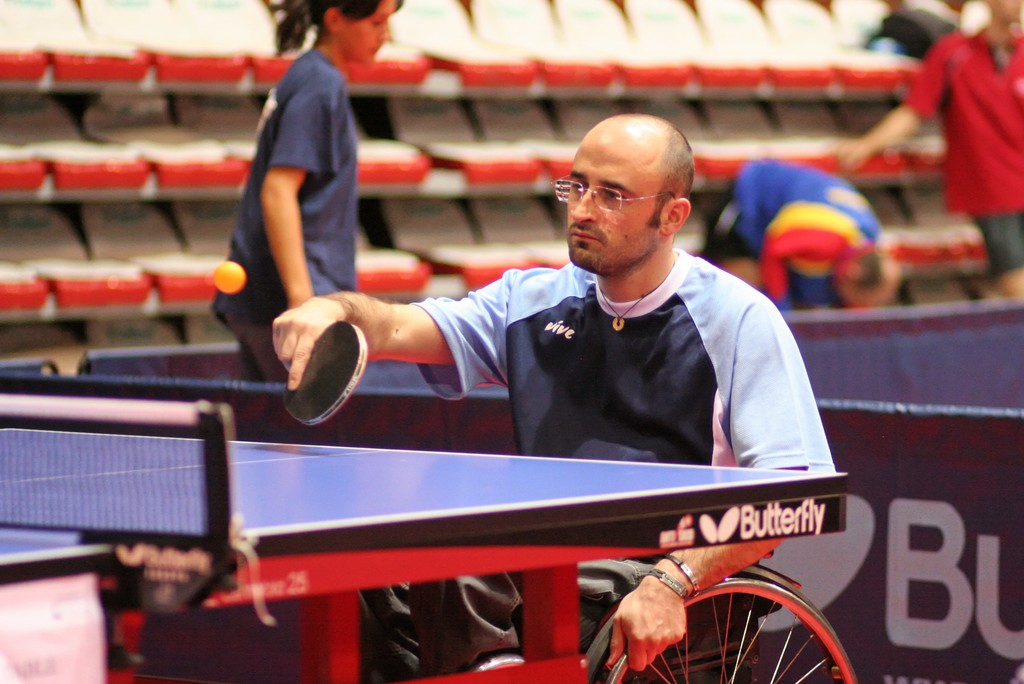Person: (210, 0, 1023, 684)
